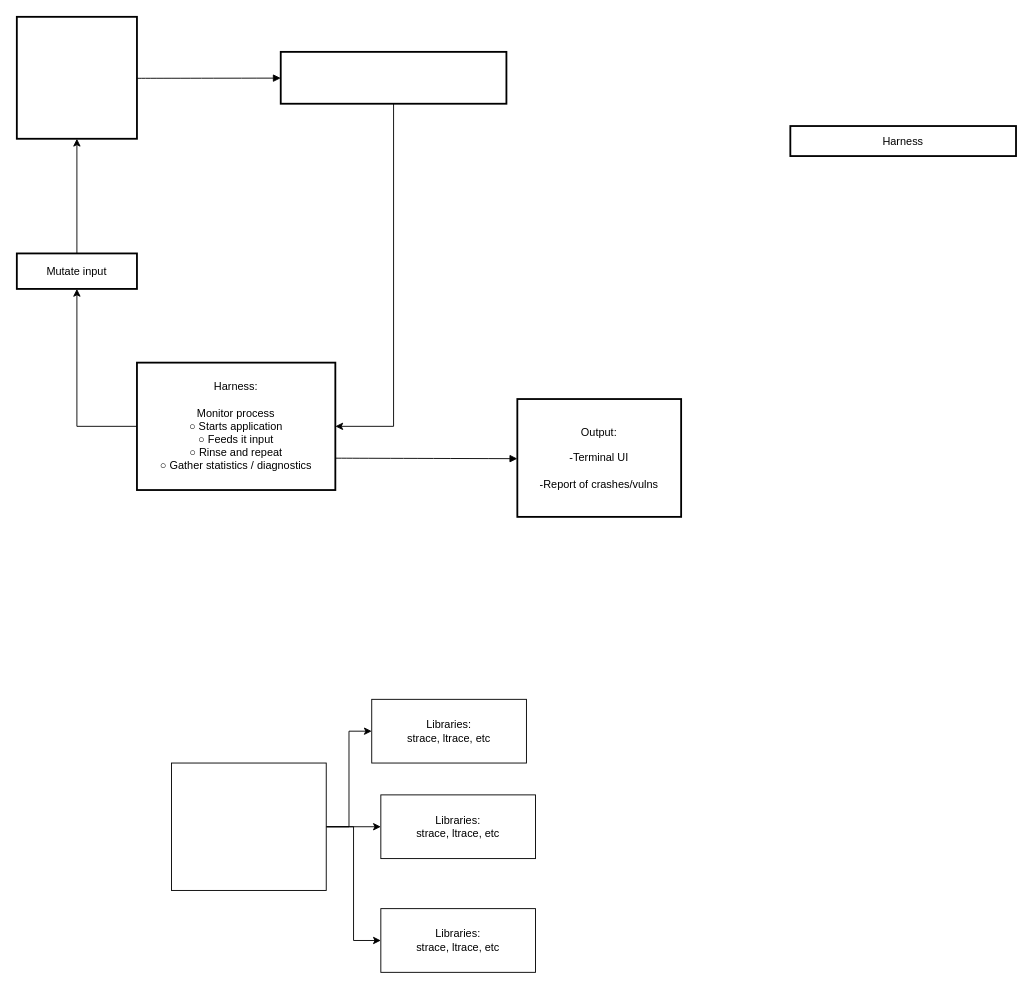
The diagram is 1032 pixels wide and 988 high, and some of its shapes have lost their labels. Each missing label, with the box of its shape:
Fuzzer: Creates test cases via generation or mutation: (15, 15, 137, 139)
Program/Binary: (279, 51, 507, 104)
Python 3.14 as Orchestrator: with GIL disabled by default: (171, 762, 326, 890)
